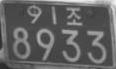1: (48, 6, 60, 24)
3: (85, 30, 107, 64), (60, 28, 81, 62)
8: (11, 26, 32, 59)
9: (35, 28, 55, 61), (26, 4, 42, 24)
조: (65, 6, 83, 26)
